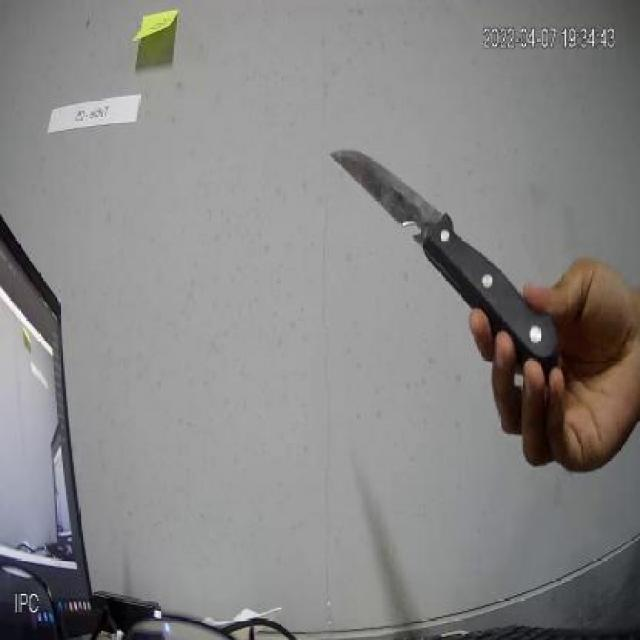-: (325, 154, 563, 377)
